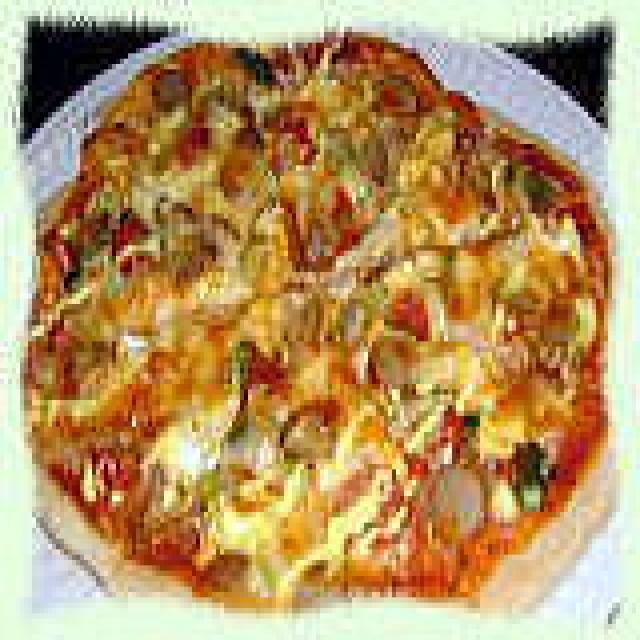汉堡快餐: (28, 26, 608, 602)
